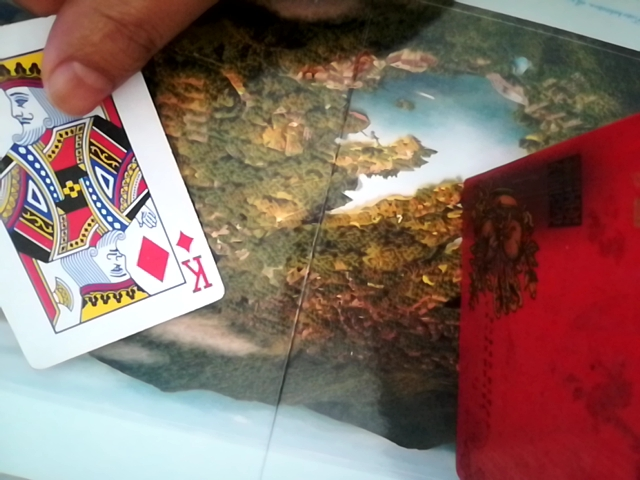fk k: (0, 41, 229, 370)
